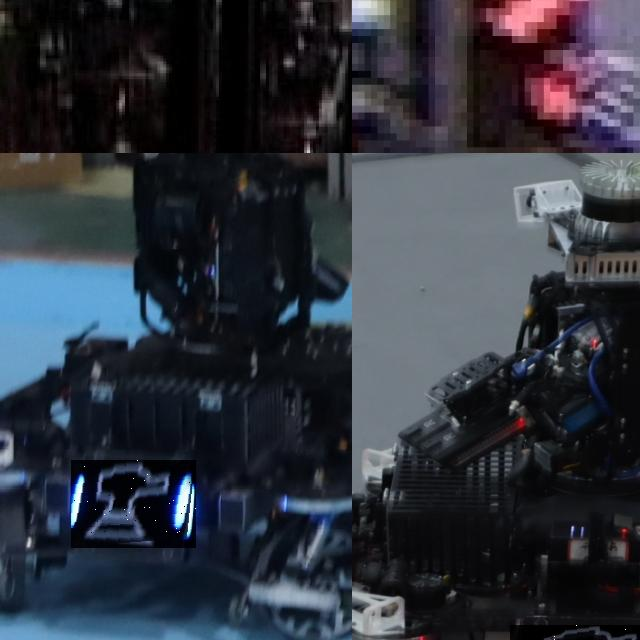Bs: (71, 460, 196, 548)
